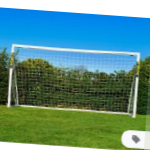goals: (6, 42, 141, 120)
